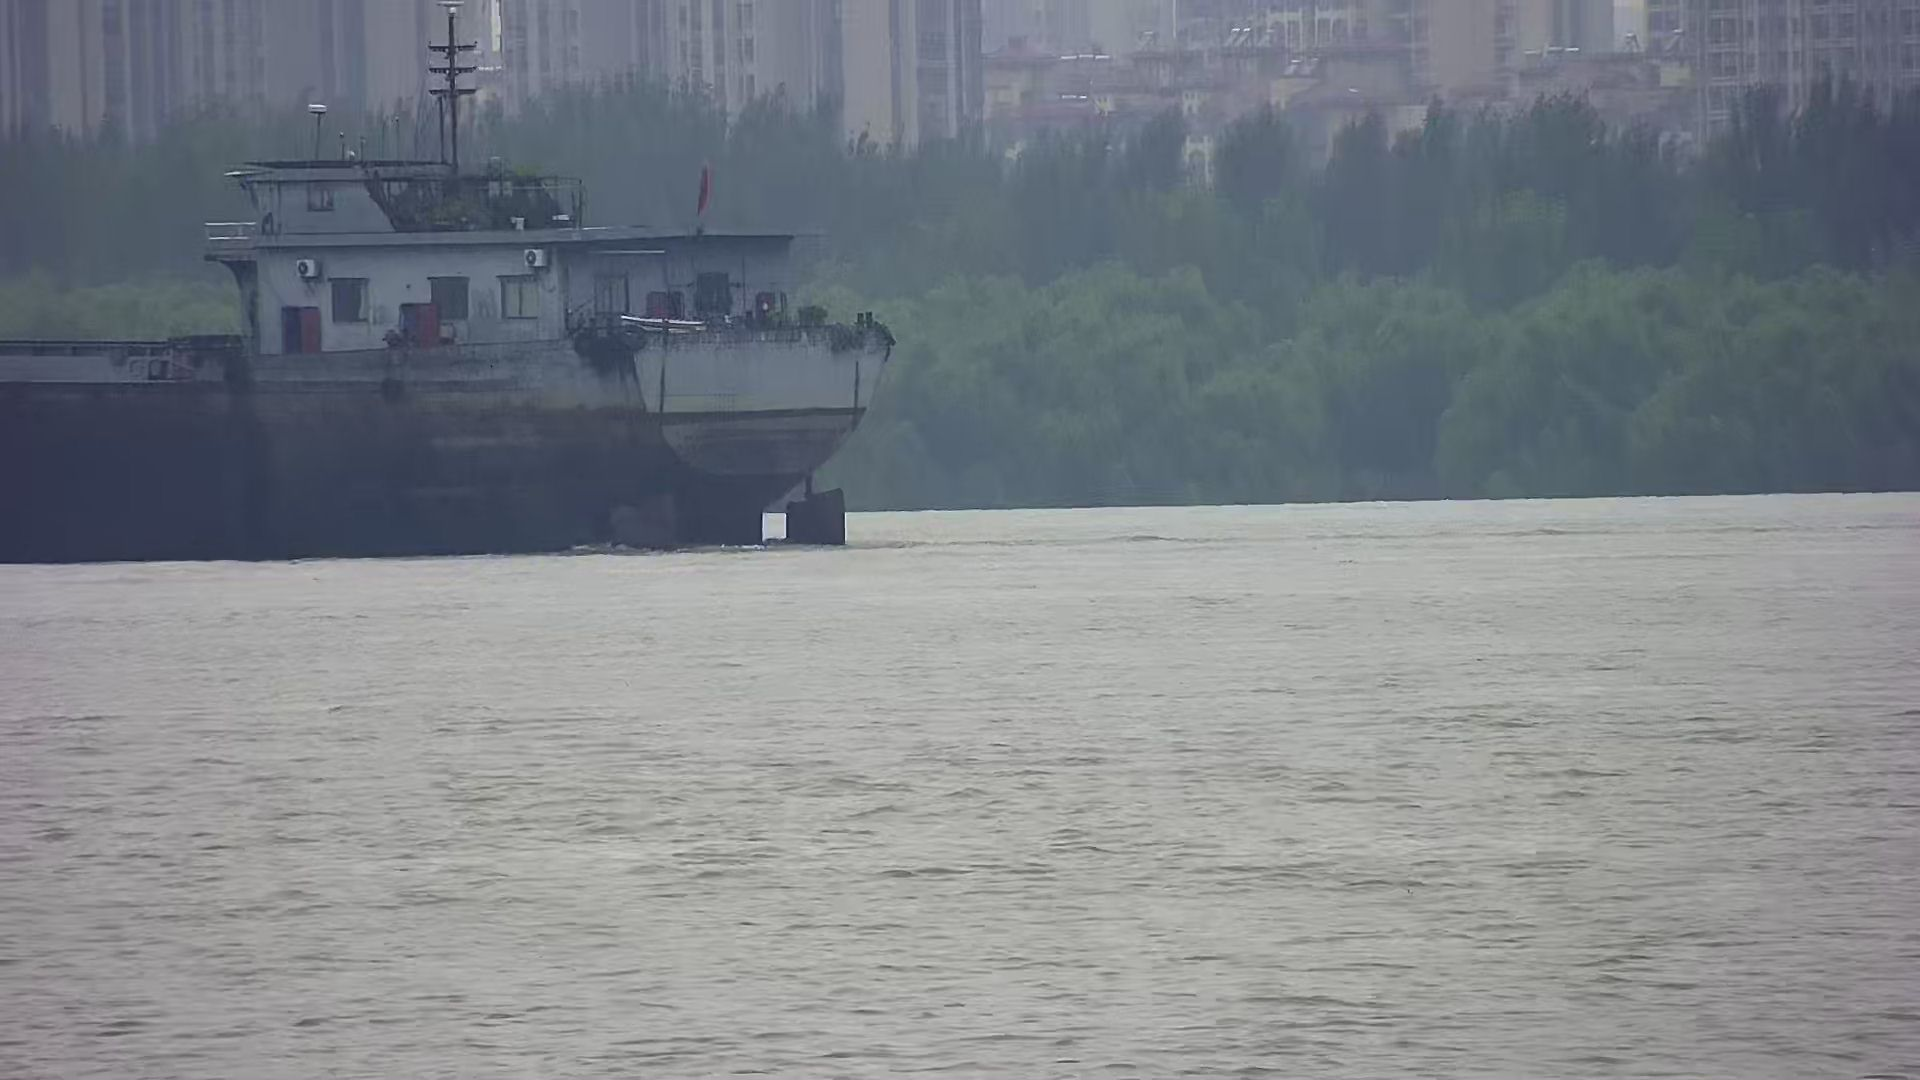ship: (1, 117, 891, 562)
